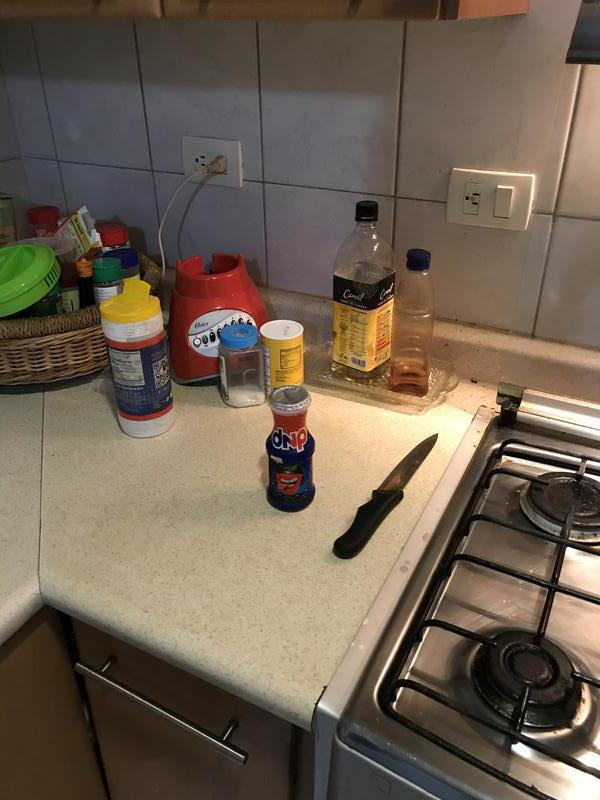danup: (264, 385, 320, 514)
